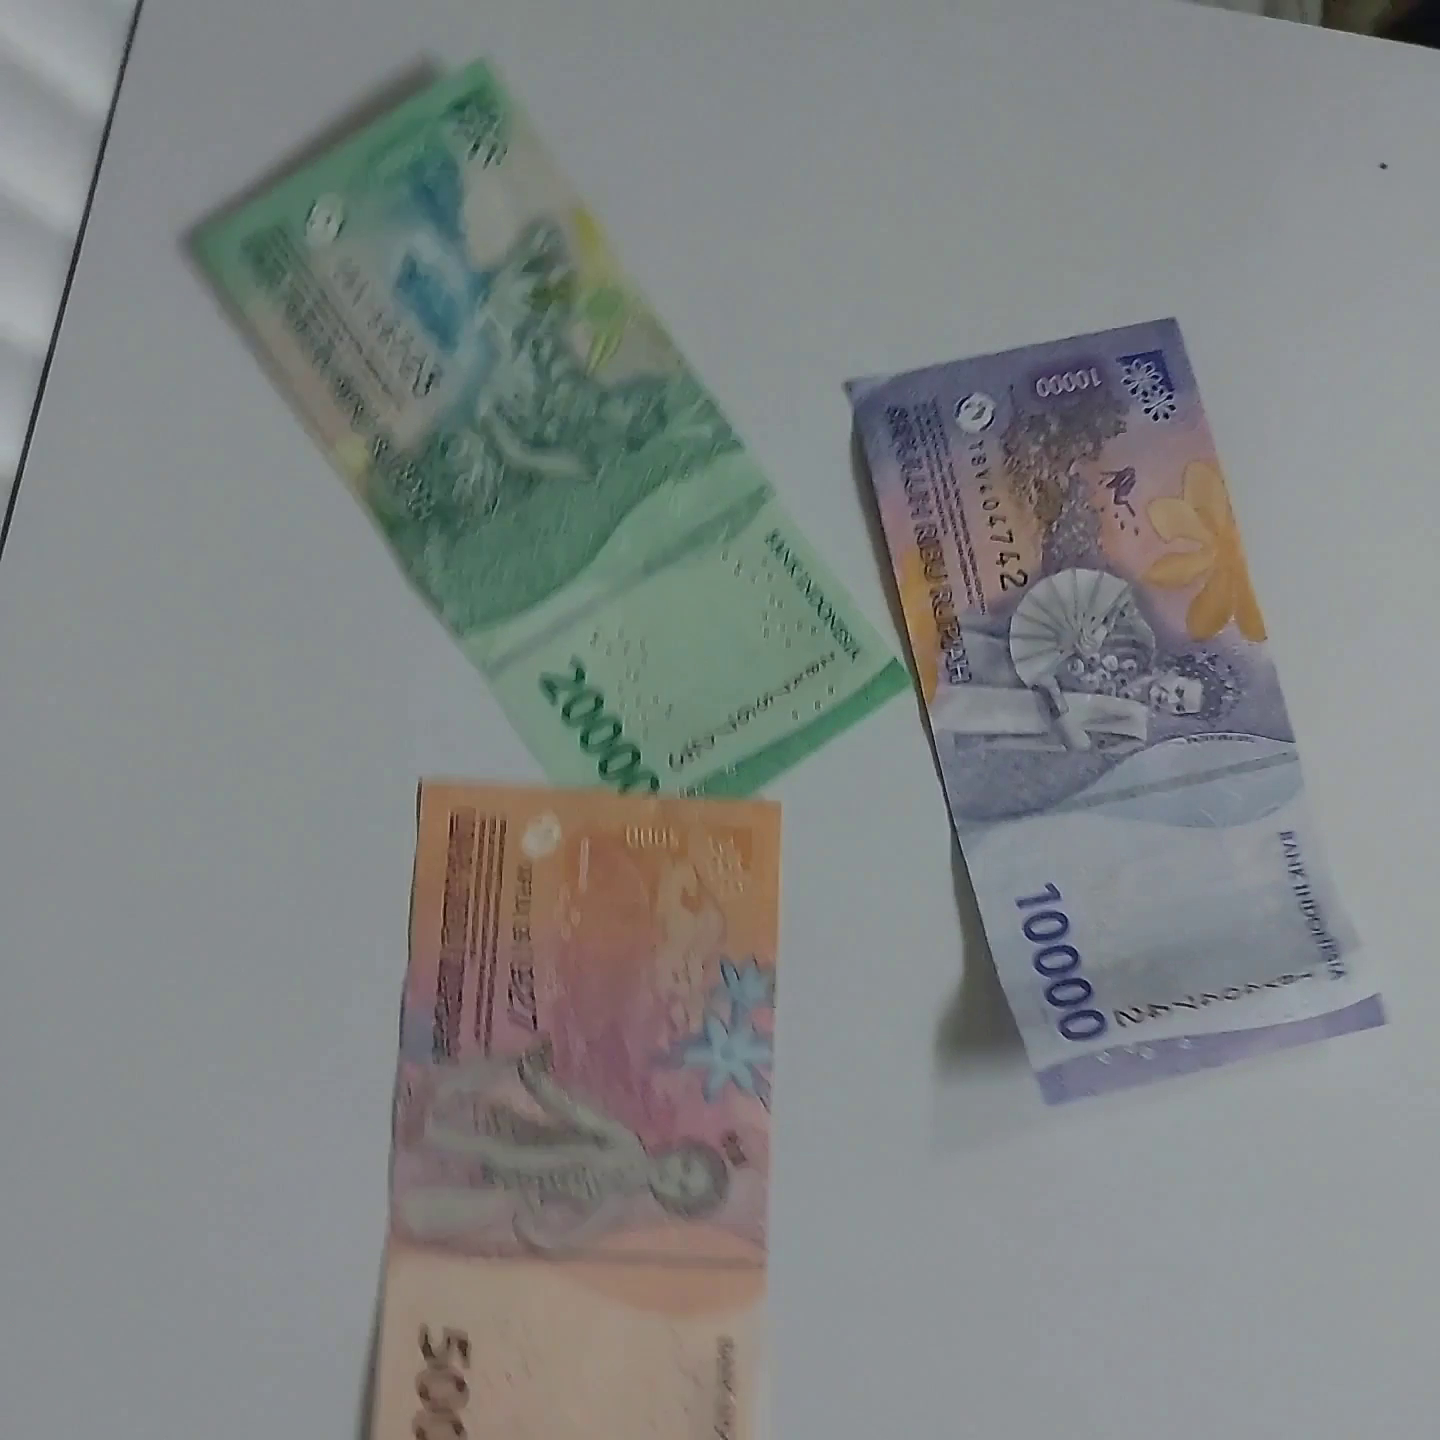10k: (829, 290, 1440, 1109)
20k: (165, 248, 553, 1046)
5k: (363, 733, 814, 1440)
